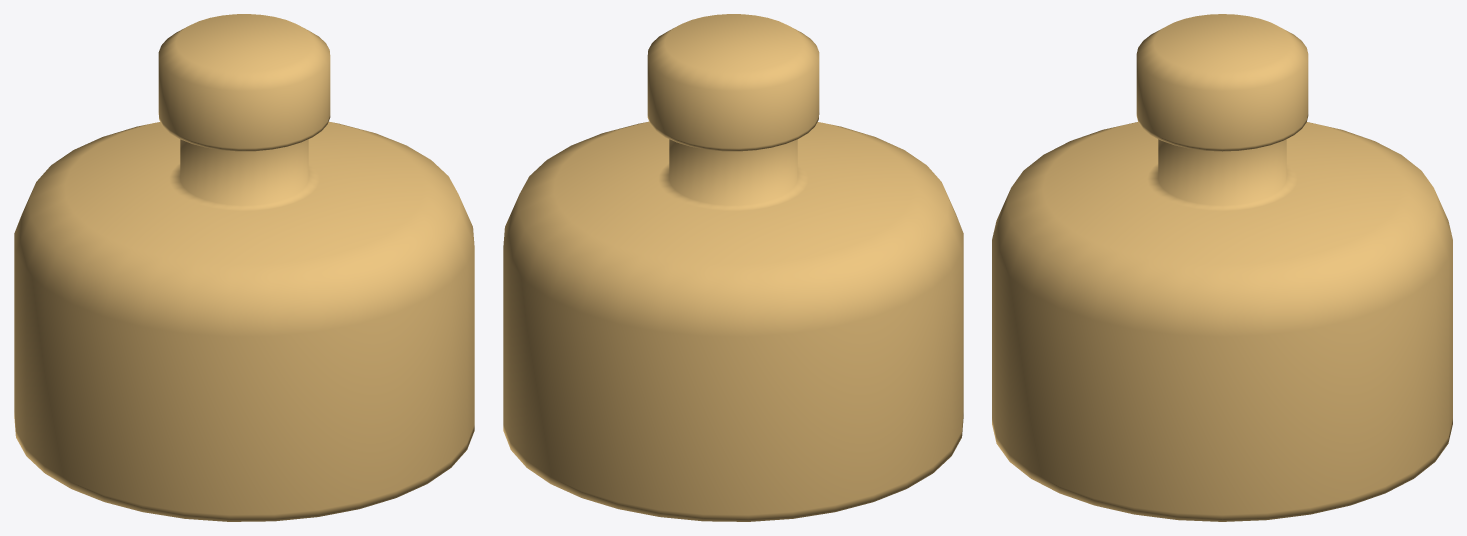
The model's file is weight.gltf.
The picture shows the model from 3 angles, left to right: view 1: azimuth 30°, elevation 25°; view 2: azimuth 150°, elevation 25°; view 3: azimuth 270°, elevation 25°; orthographic projection.
Visible parts, largest first — view 1: Cylinder; view 2: Cylinder; view 3: Cylinder.
Boxes of the visible parts, x1,y1,x2,y2 form: Cylinder: (14,14,474,521); Cylinder: (503,14,963,521); Cylinder: (992,14,1452,521).
Bounding box in the file's own units: 2 × 1.83 × 2.
